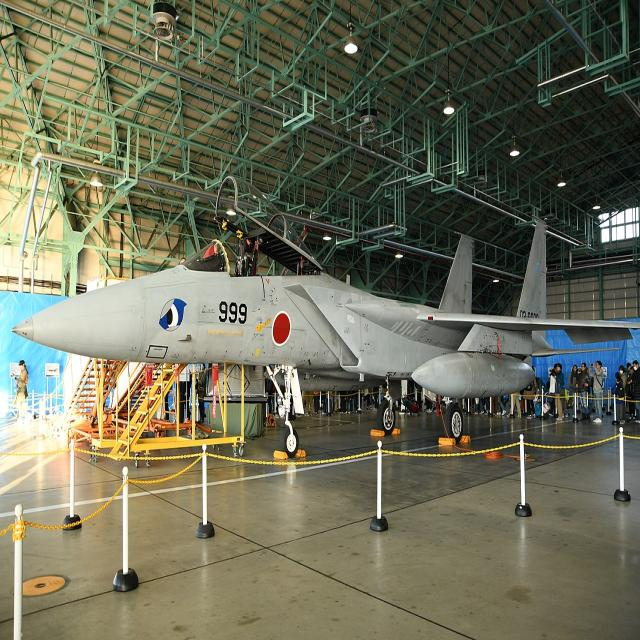MIL_Plane: (10, 173, 640, 457)
